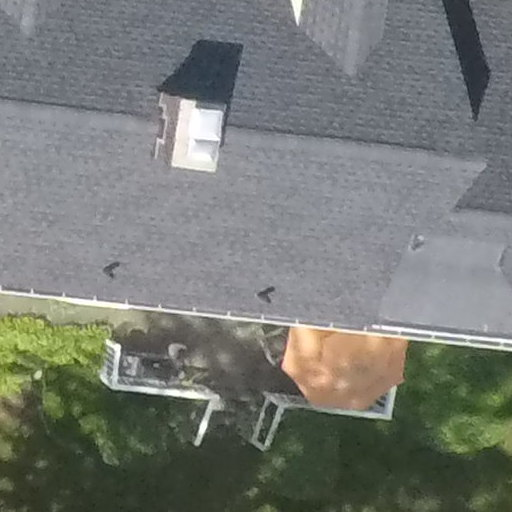porch: (60, 318, 426, 453)
umbrella: (264, 319, 434, 421)
